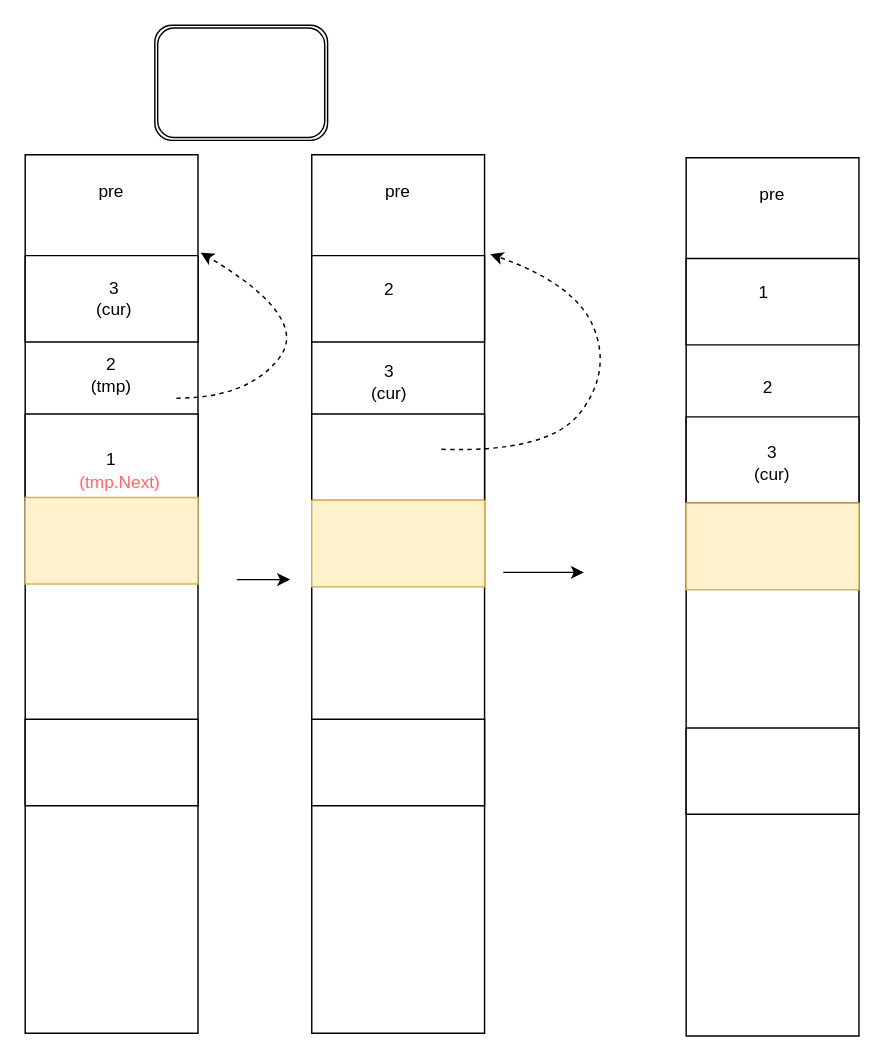
This 884x1061 diagram has some shape labels left out. Here are the shapes that lost their labels. From the top down, the centre of each, then its label:
At point (240, 82): "tmp:=cur.Next cur.Next=tmp.Next tmp.Next=pre.Next pre.Next=tmp".
At point (397, 456): "1 ( tmp )".
